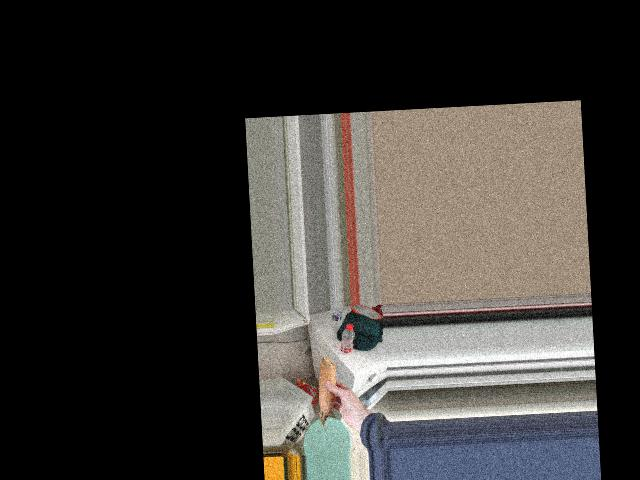sweet_potato: (317, 363, 342, 425)
